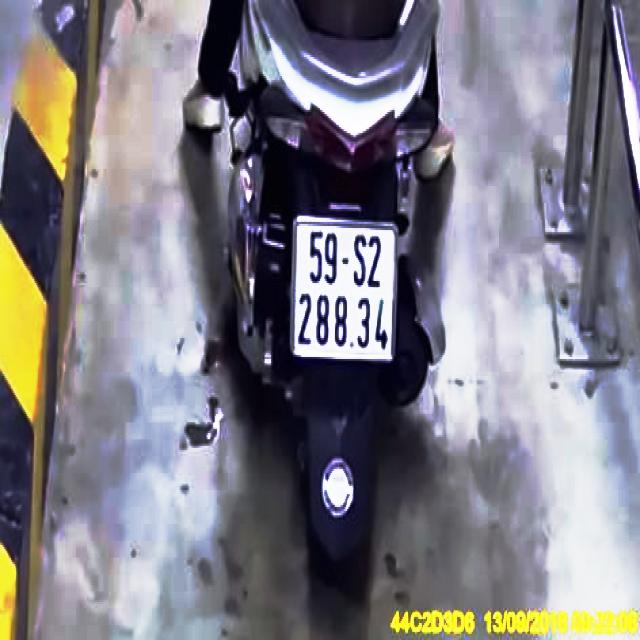license_plate: (294, 215, 401, 361)
